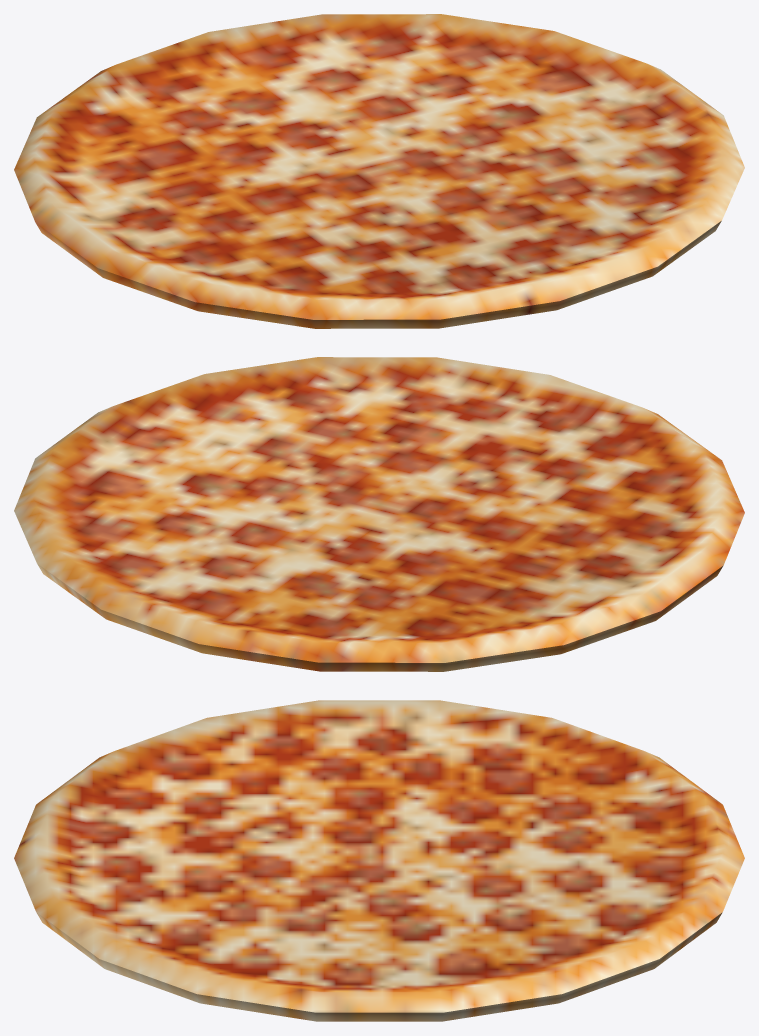
File: whole pepperoni.fbx
The picture shows the model from 3 angles, top to bottom: view 1: azimuth 30°, elevation 25°; view 2: azimuth 150°, elevation 25°; view 3: azimuth 270°, elevation 25°; orthographic projection.
Visible parts, largest first — view 1: whole pepperoni; view 2: whole pepperoni; view 3: whole pepperoni.
Boxes of the visible parts, x1,y1,x2,y2 form: whole pepperoni: (14,14,744,328); whole pepperoni: (14,357,744,671); whole pepperoni: (14,700,744,1021).
Size of the model in its own units: 36.23 by 1.29 by 36.23.
Materials: 1 (1 with a texture image).
